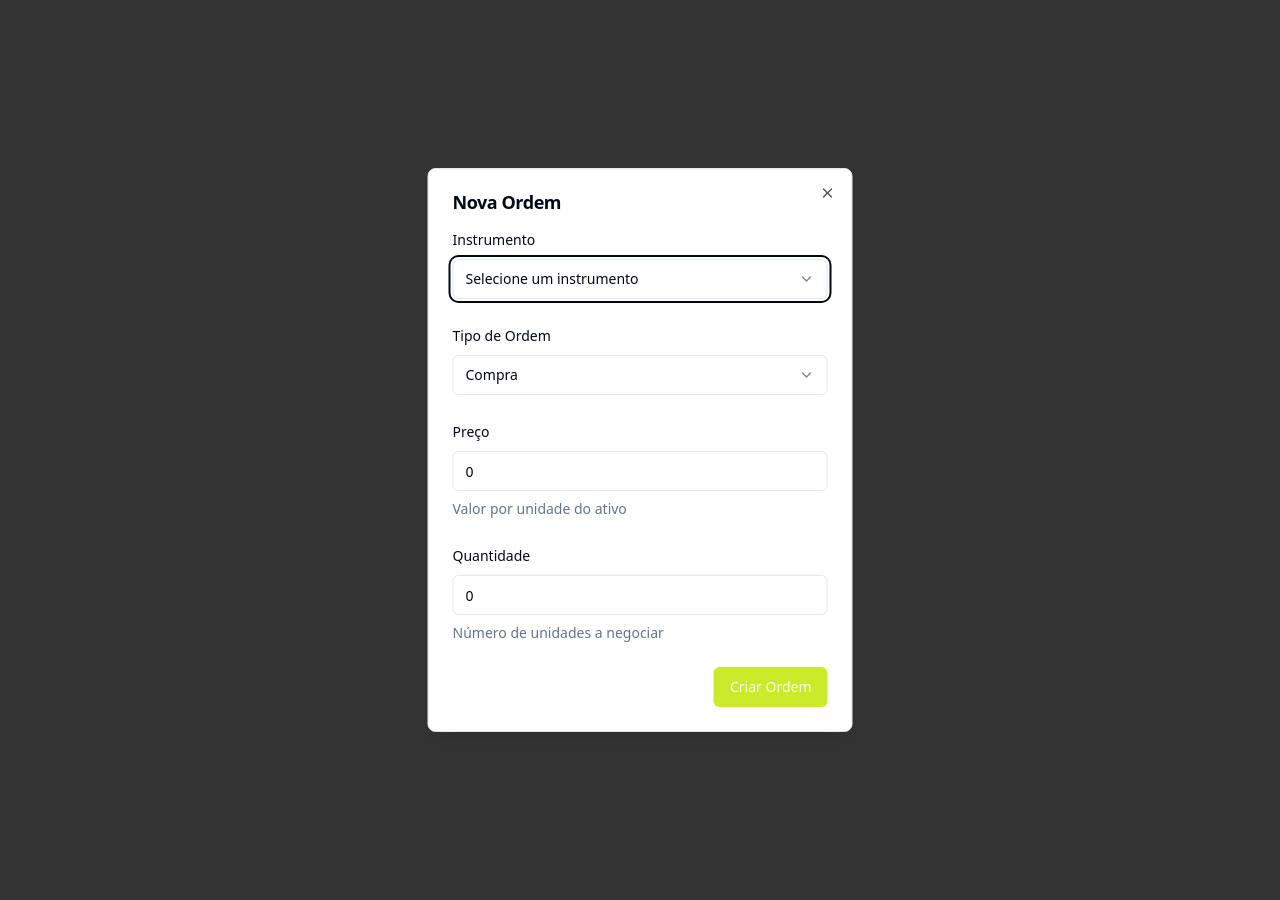
Test: CreateOrderForm › should validate required fields
Click the button "Criar Ordem" at (771, 687), box [714, 667, 828, 707]
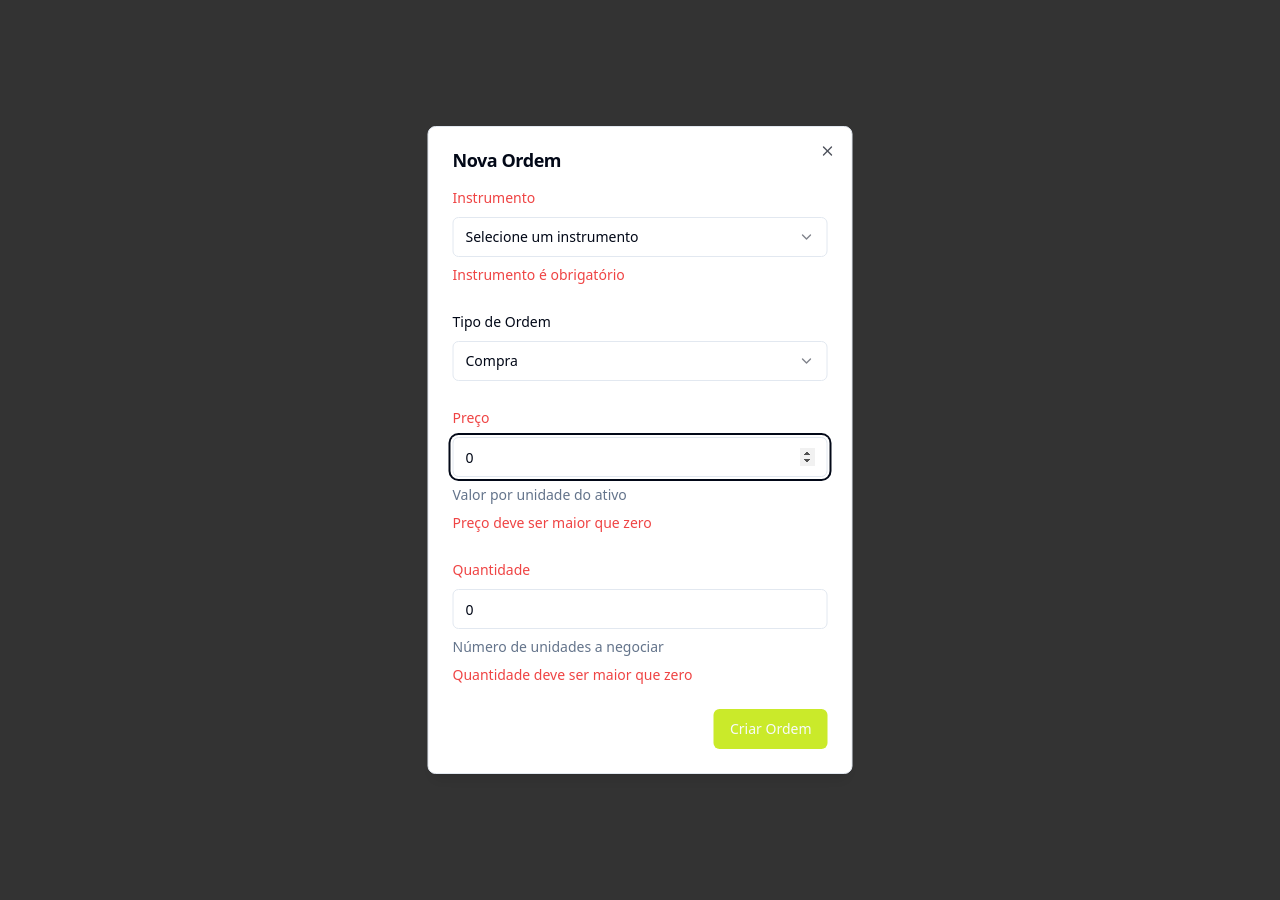
Expected: the text "Instrumento é obrigatório" is shown, [452, 265, 625, 284]
Expected: the text "Preço deve ser maior que zero" is shown, [452, 513, 652, 532]
Expected: the text "Quantidade deve ser maior que zero" is shown, [452, 665, 692, 684]
